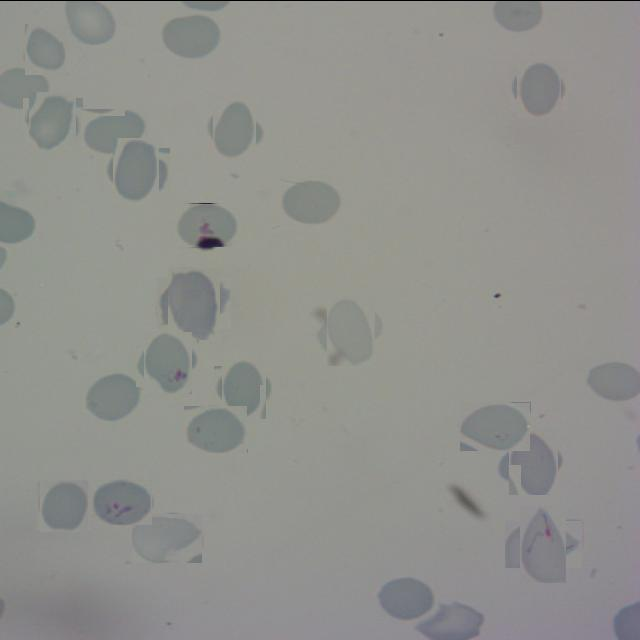leukocyte: (162, 270, 225, 334), (322, 300, 382, 360), (460, 401, 531, 450), (132, 513, 202, 562), (505, 433, 562, 491), (81, 107, 149, 154), (109, 142, 164, 198), (280, 178, 344, 226), (184, 404, 248, 452), (83, 370, 143, 421), (160, 11, 224, 58), (26, 94, 80, 148), (376, 574, 437, 621), (218, 361, 271, 414), (209, 103, 261, 155), (512, 62, 564, 114), (38, 480, 89, 530), (22, 24, 70, 72)
red blood cell: (512, 512, 574, 574), (140, 334, 196, 390), (175, 202, 239, 246), (91, 479, 152, 524)
